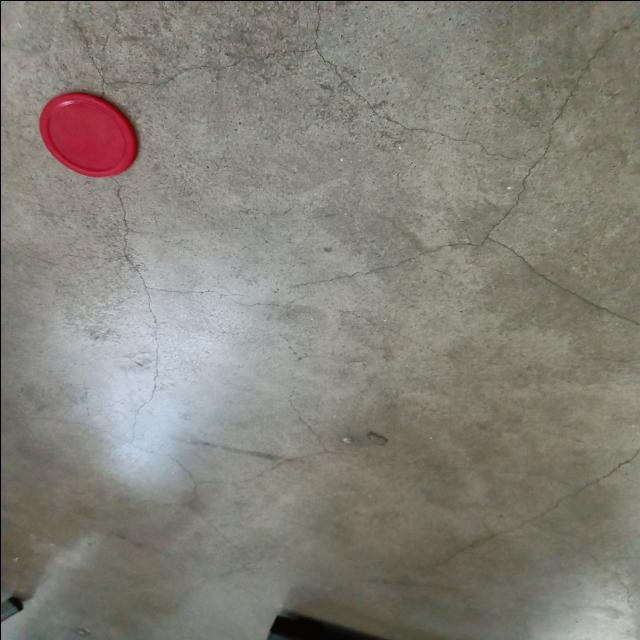chip: (35, 88, 140, 178)
